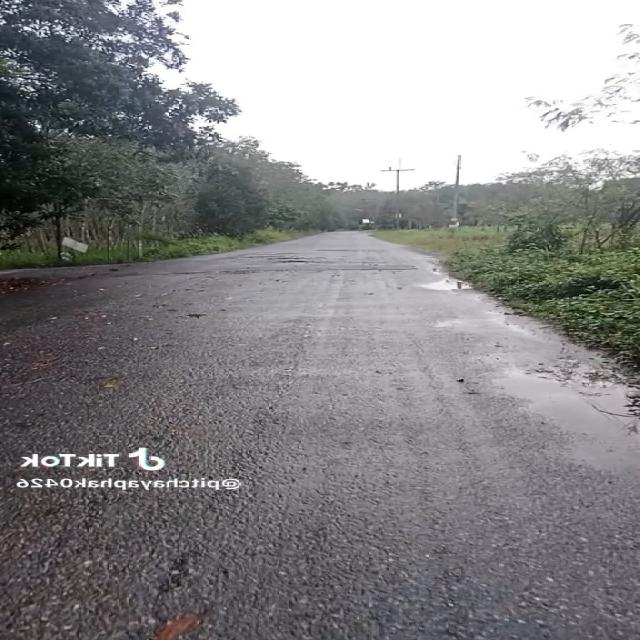Poth-hole: (222, 256, 402, 270)
